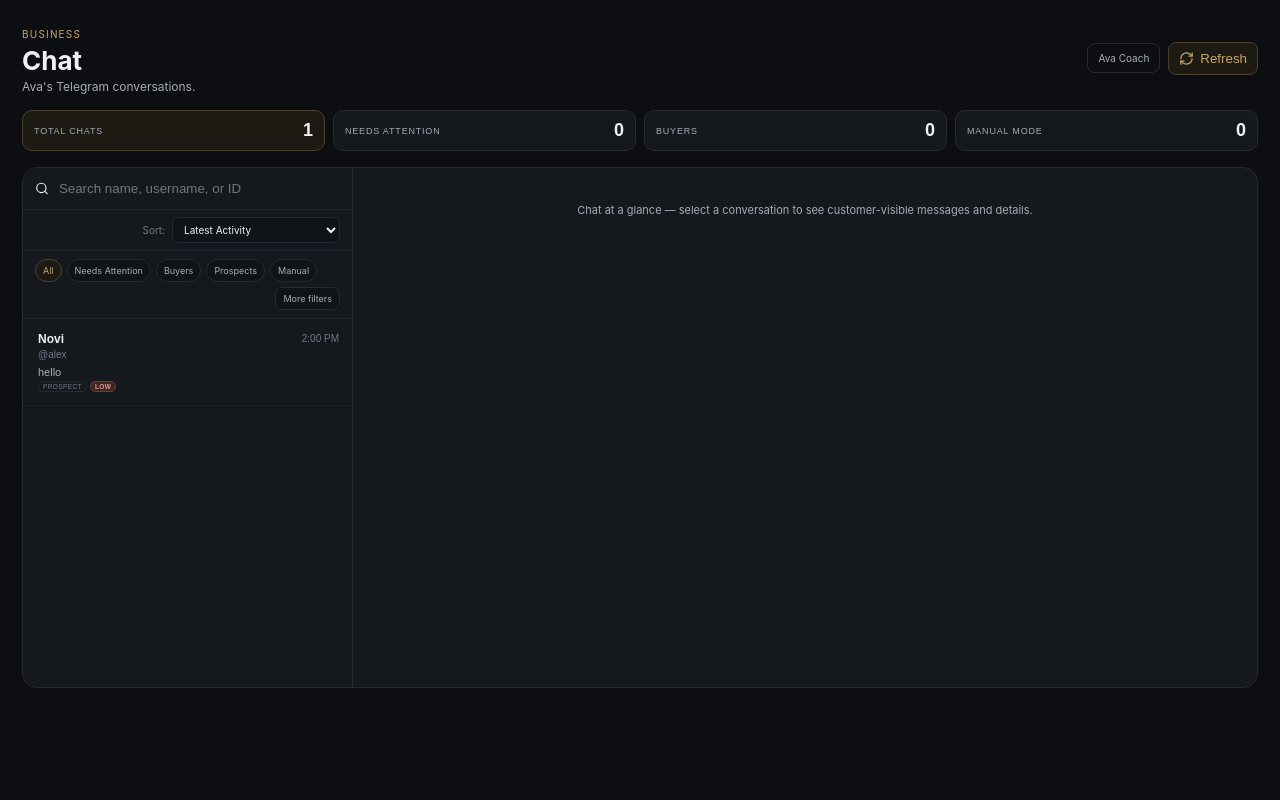
Chat operational status › keeps LOW as the sole list classification and explains exhaustion in selected detail
Expected: the text named "Country Tier: Low" reads "LOW", [95,383,111,390]
Click the button "Novi @alex hello PROSPECT LOW 2:00 PM" at (62,387), box [23,319,352,406]
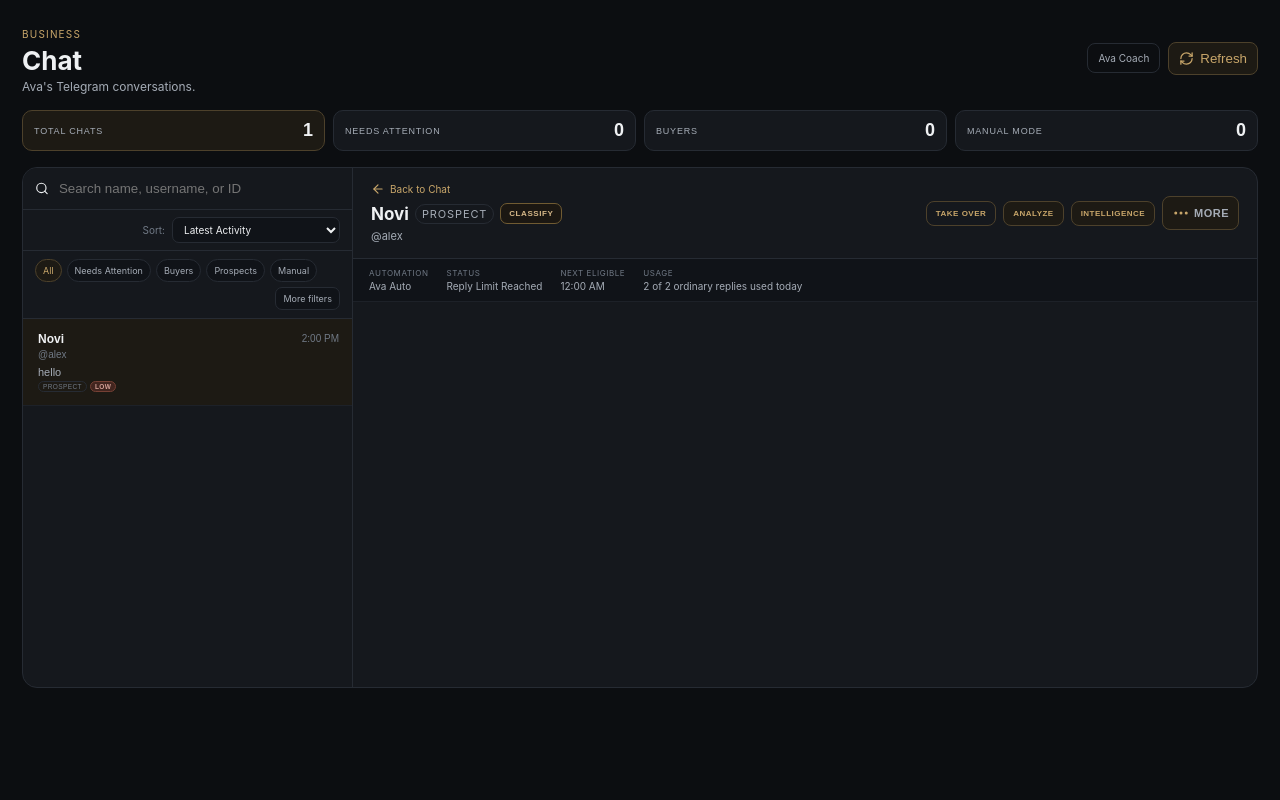
Now the element named "Conversation operational status: Reply Limit Reached" shows "Reply Limit Reached", box [446,280,542,292]
Now the element named "Conversation operational status: Reply Limit Reached" shows "Next eligible", box [560,268,625,278]
Now the element named "Conversation operational status: Reply Limit Reached" shows "12:00 AM", box [560,280,605,292]
